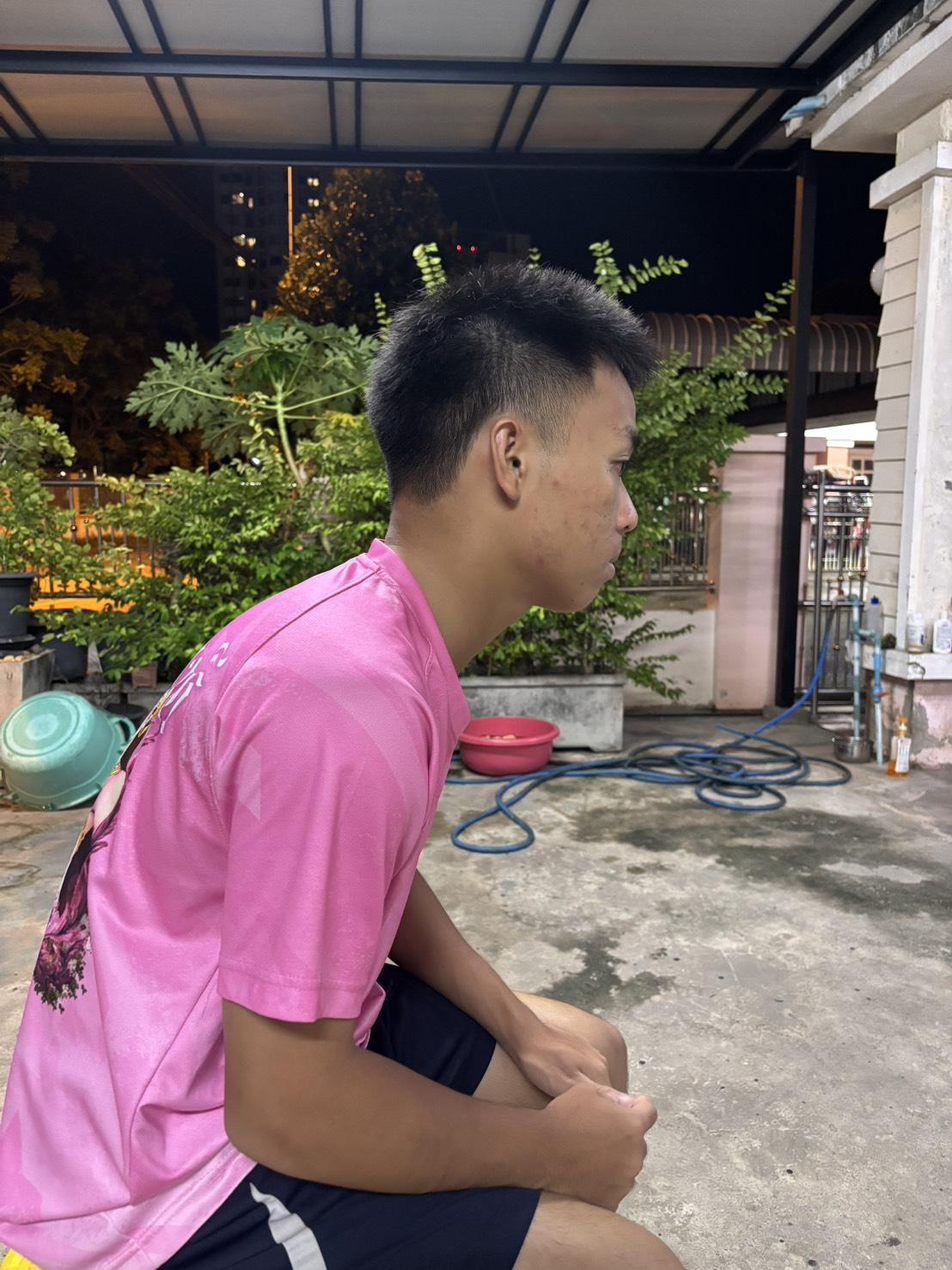BadPosture: (0, 266, 683, 1269)
